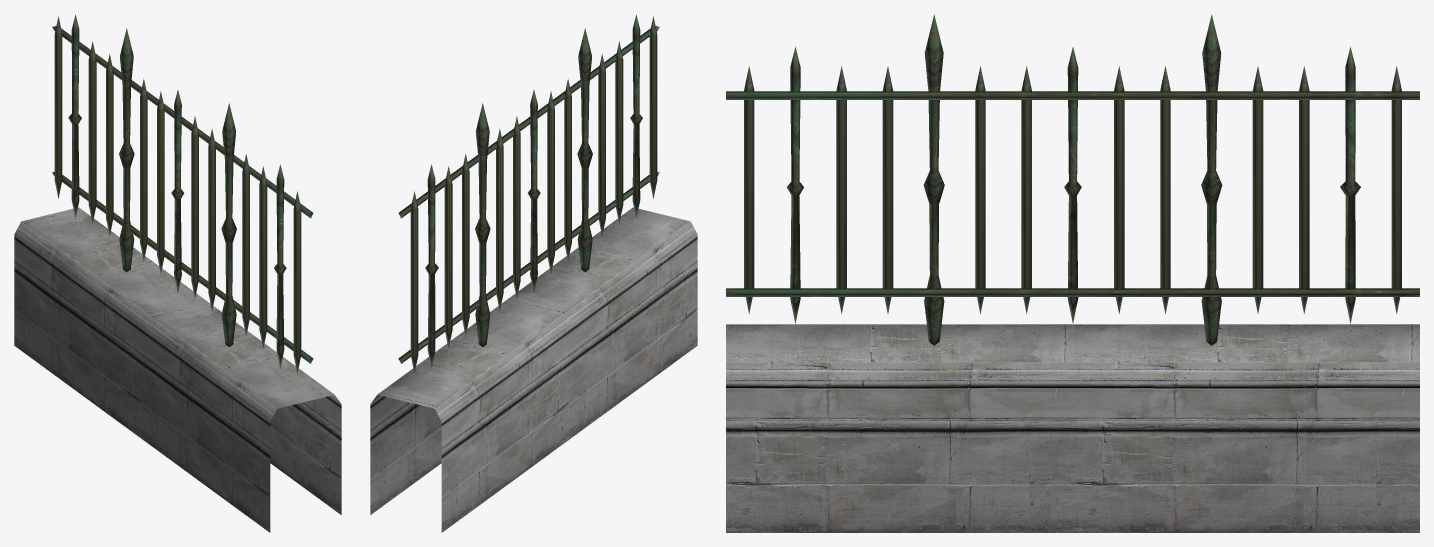
File: StoneFence_Wall_LOD2.fbx
3 views of the same model, side by side, from view 1: azimuth 30°, elevation 25°; view 2: azimuth 150°, elevation 25°; view 3: azimuth 270°, elevation 25° (orthographic). The views are drawn at different scales.
Parts seen in each view (by area): view 1: StoneFence_Wall_LOD2; view 2: StoneFence_Wall_LOD2; view 3: StoneFence_Wall_LOD2.
Part boxes in pixels (x1,y1,x2,y2): StoneFence_Wall_LOD2: (14,14,341,532); StoneFence_Wall_LOD2: (370,14,697,532); StoneFence_Wall_LOD2: (726,14,1419,532).
Bounding box in the file's own units: 48.45 × 236 × 300.
